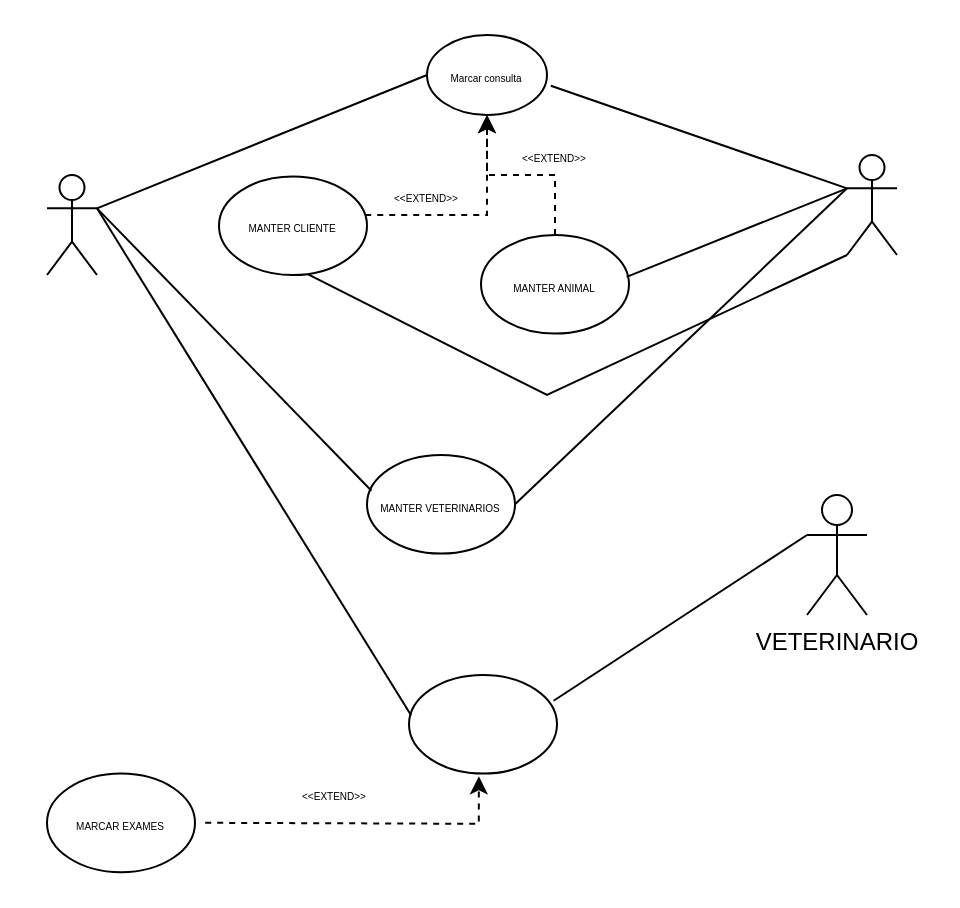
Some shapes in this 960 by 908 pixel diagram are drawn without their labels. Each missing label, with the centre of its shape:
Cliente: (x=71, y=224)
REALIZAR CONSULTA: (x=482, y=723)
Secretaria: (x=871, y=204)
